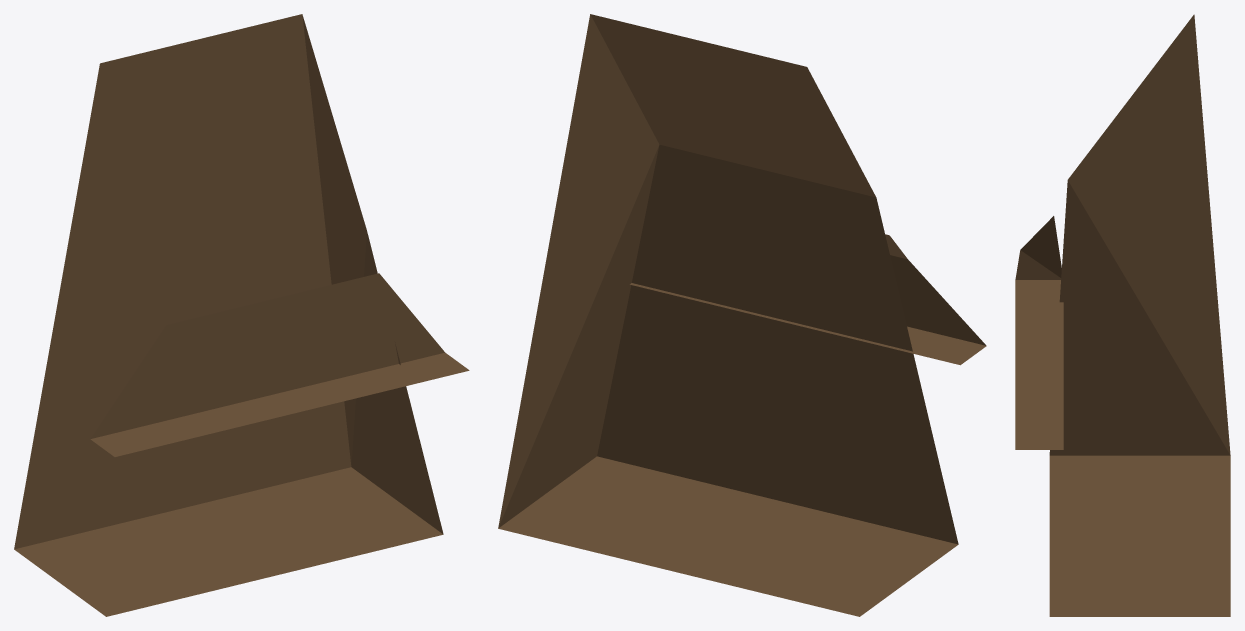
The model's file is pouch.glb.
3 views of the same model, side by side, from view 1: azimuth 30°, elevation 25°; view 2: azimuth 150°, elevation 25°; view 3: azimuth 270°, elevation 25° (orthographic). The views are drawn at different scales.
Visible parts, largest first — view 1: Module_pouch; view 2: Module_pouch; view 3: Module_pouch.
Boxes of the visible parts, bbox=[...] form: Module_pouch: bbox=[14, 14, 469, 616]; Module_pouch: bbox=[498, 14, 986, 616]; Module_pouch: bbox=[1015, 14, 1230, 616].
Bounding box in the file's own units: 0.1 × 0.13 × 0.0535.
